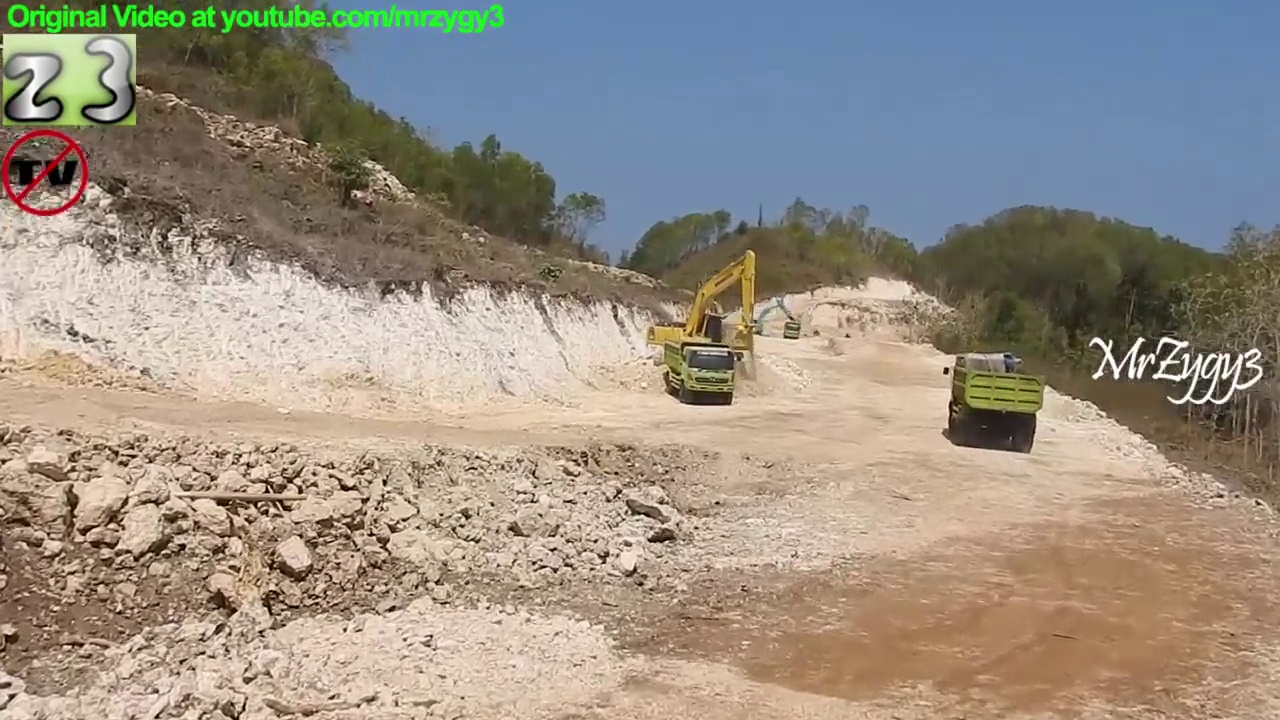excavator: (647, 248, 762, 372), (741, 295, 796, 338)
truck: (941, 345, 1050, 452), (661, 334, 747, 407), (781, 316, 805, 341)
